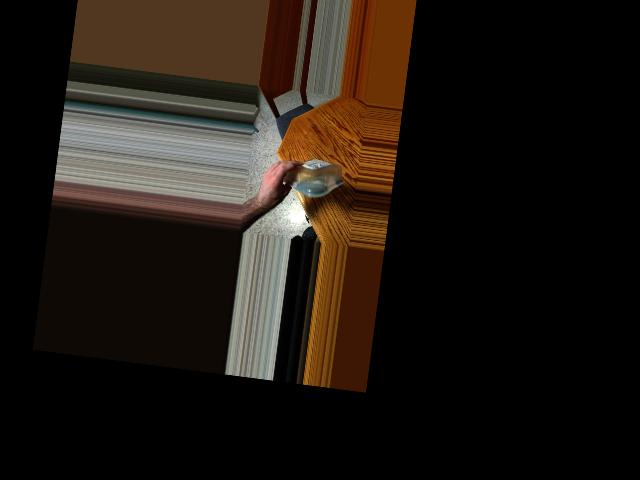cheese: (270, 152, 346, 198)
